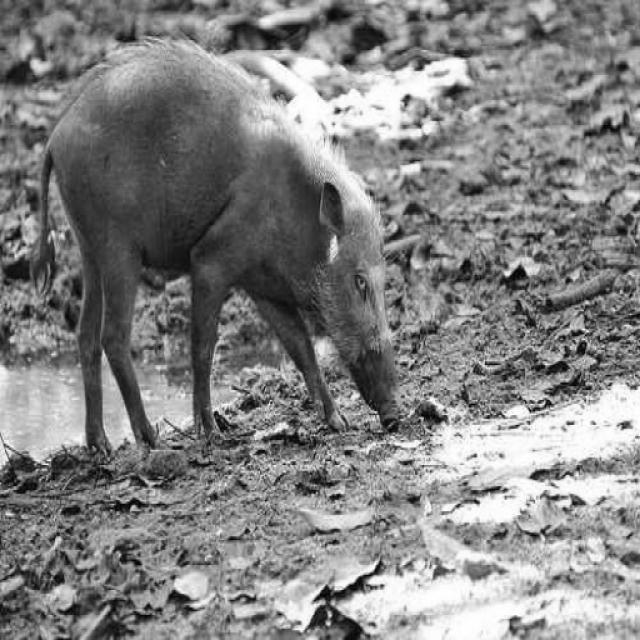WILD BOAR: (27, 24, 434, 454)
